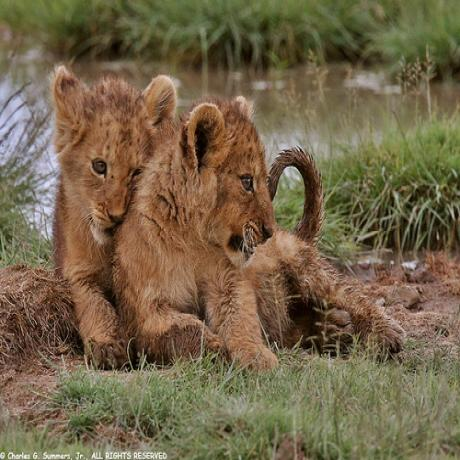Lion: (120, 98, 389, 356), (52, 62, 176, 363)
